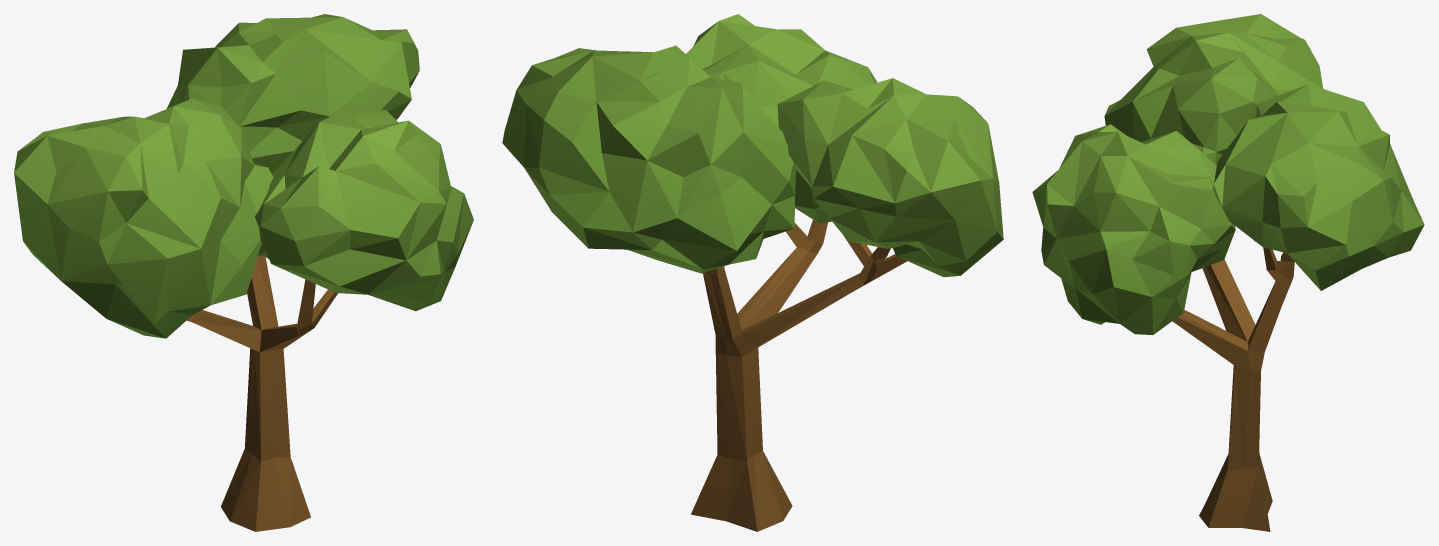
Rendered from forest_tree_broadleaf_04.dae.
3 renders of one model, left to right at view 1: azimuth 30°, elevation 25°; view 2: azimuth 150°, elevation 25°; view 3: azimuth 270°, elevation 25°, orthographic. The views are drawn at different scales.
Visible parts, largest first — view 1: Tree_average_regular; view 2: Tree_average_regular; view 3: Tree_average_regular.
Boxes of the visible parts, left/top/right/bottom form: Tree_average_regular: left=14, top=14, right=473, bottom=531; Tree_average_regular: left=502, top=14, right=1003, bottom=531; Tree_average_regular: left=1032, top=14, right=1424, bottom=531.
Bounding box in the file's own units: 14.69 × 12.04 × 14.62.
Materials: 1 (1 with a texture image).
